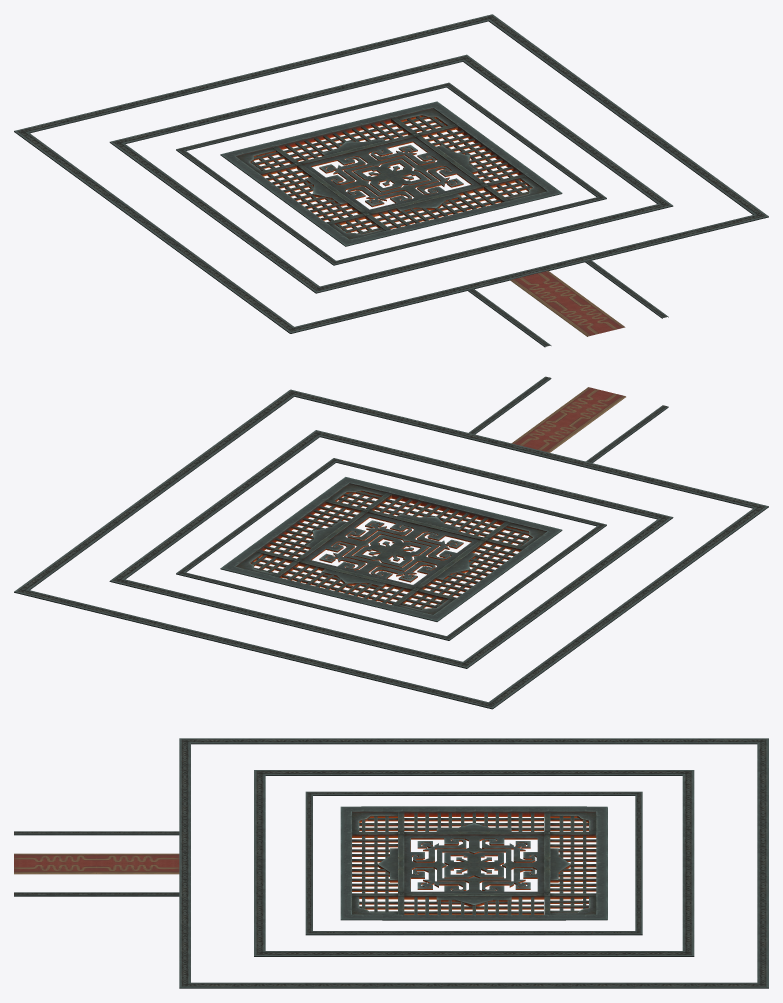
The model's file is M11_T_dimianzhuangshi.FBX.
3 views of the same model, one above another, from view 1: azimuth 30°, elevation 25°; view 2: azimuth 150°, elevation 25°; view 3: azimuth 270°, elevation 25° (orthographic). The views are drawn at different scales.
Parts seen in each view (by area): view 1: M11_T_dimianzhuangshi; view 2: M11_T_dimianzhuangshi; view 3: M11_T_dimianzhuangshi.
Part boxes in pixels (bbox=[...]): M11_T_dimianzhuangshi: bbox=[14, 14, 768, 347]; M11_T_dimianzhuangshi: bbox=[14, 376, 768, 709]; M11_T_dimianzhuangshi: bbox=[14, 738, 768, 988].
Size of the model in its own units: 2591 by 28.02 by 3317.
